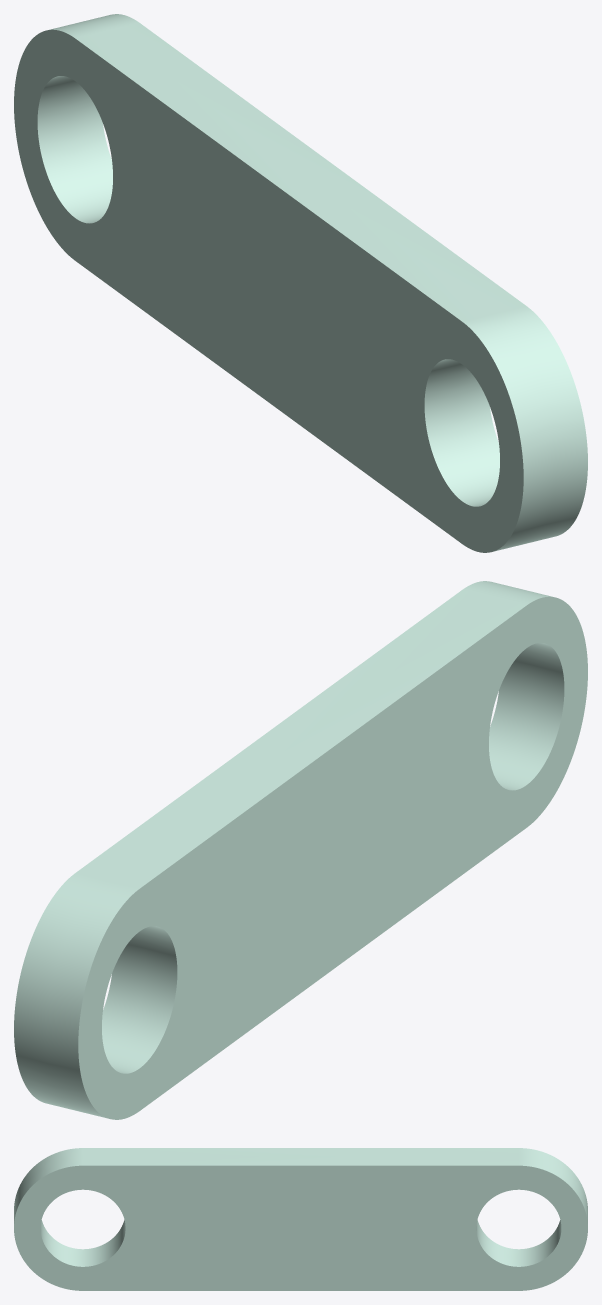
The picture shows the model from 3 angles, top to bottom: view 1: azimuth 30°, elevation 25°; view 2: azimuth 150°, elevation 25°; view 3: azimuth 270°, elevation 25°; orthographic projection. The views are drawn at different scales.
Visible parts, largest first — view 1: Renderer Node; view 2: Renderer Node; view 3: Renderer Node.
Boxes of the visible parts, bbox=[...] form: Renderer Node: bbox=[14, 14, 587, 552]; Renderer Node: bbox=[14, 581, 587, 1119]; Renderer Node: bbox=[14, 1148, 587, 1290].
Bounding box in the file's own units: 0.1094 × 0.3613 × 1.5.
